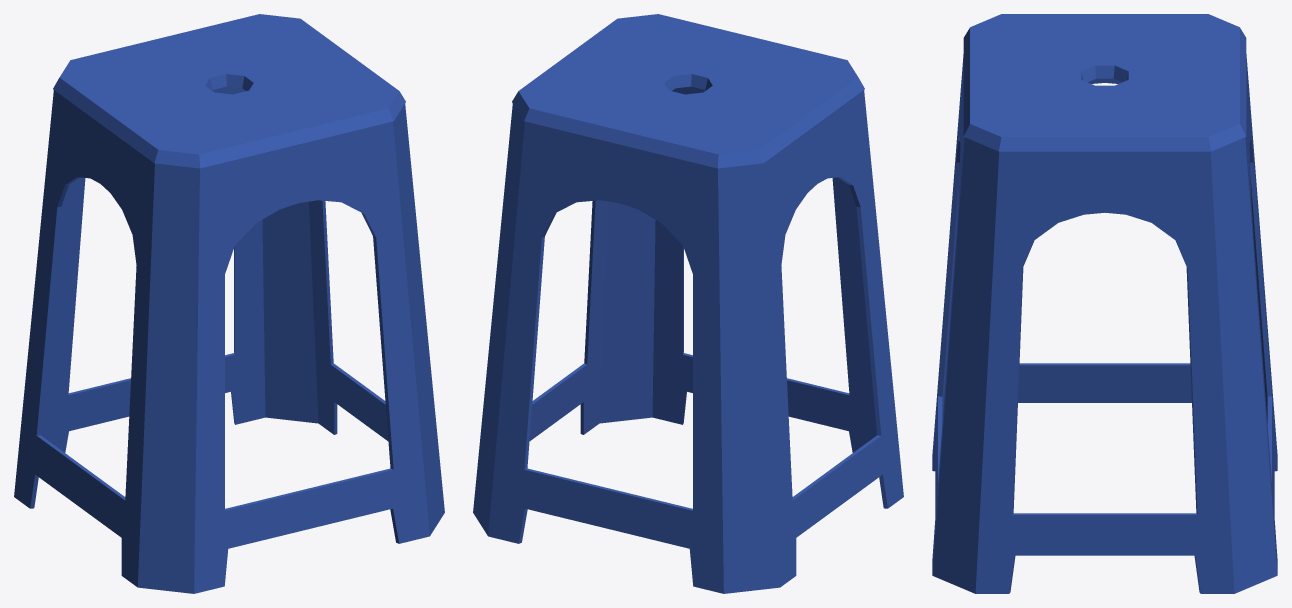
The model's file is SM_Furniture_StoolHigh_Blue_01.fbx.
3 views of the same model, side by side, from view 1: azimuth 30°, elevation 25°; view 2: azimuth 150°, elevation 25°; view 3: azimuth 270°, elevation 25° (orthographic). The views are drawn at different scales.
Parts seen in each view (by area): view 1: SM_Furniture_StoolHigh_Blue_01; view 2: SM_Furniture_StoolHigh_Blue_01; view 3: SM_Furniture_StoolHigh_Blue_01.
Part boxes in pixels (x1,y1,x2,y2): SM_Furniture_StoolHigh_Blue_01: (14, 14, 444, 593); SM_Furniture_StoolHigh_Blue_01: (473, 14, 903, 593); SM_Furniture_StoolHigh_Blue_01: (932, 14, 1277, 593).
Bounding box in the file's own units: 0.344 × 0.45 × 0.32.
Materials: 1 (1 with a texture image).
